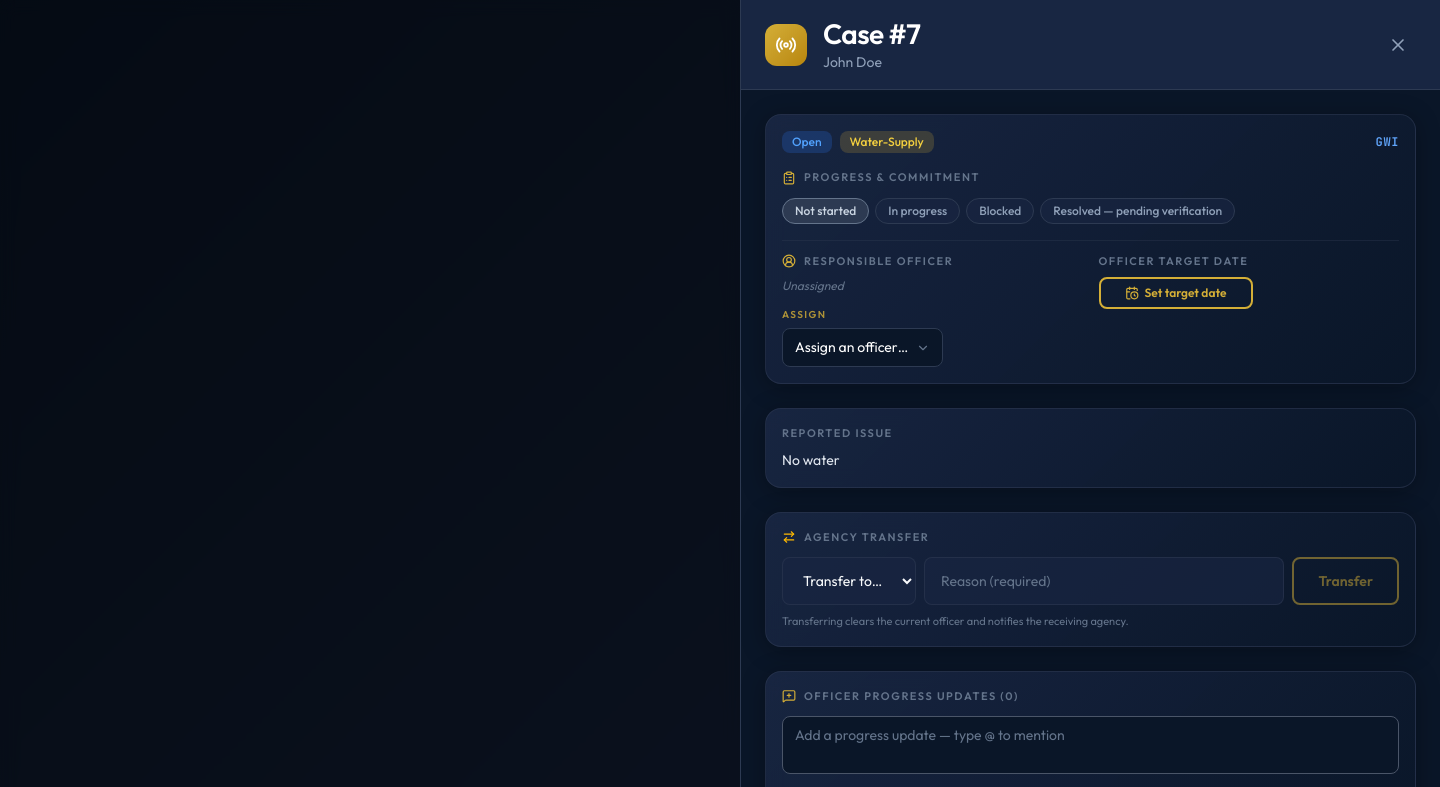
it: officer picker (MultiSelect adapter) › Escape closes the officer menu without closing the whole panel
Expected: the text "No water" is shown, x1=782 y1=451 x2=840 y2=469
Click the button "Assign an officer…" at (863, 348), box x1=782 y1=328 x2=943 y2=367
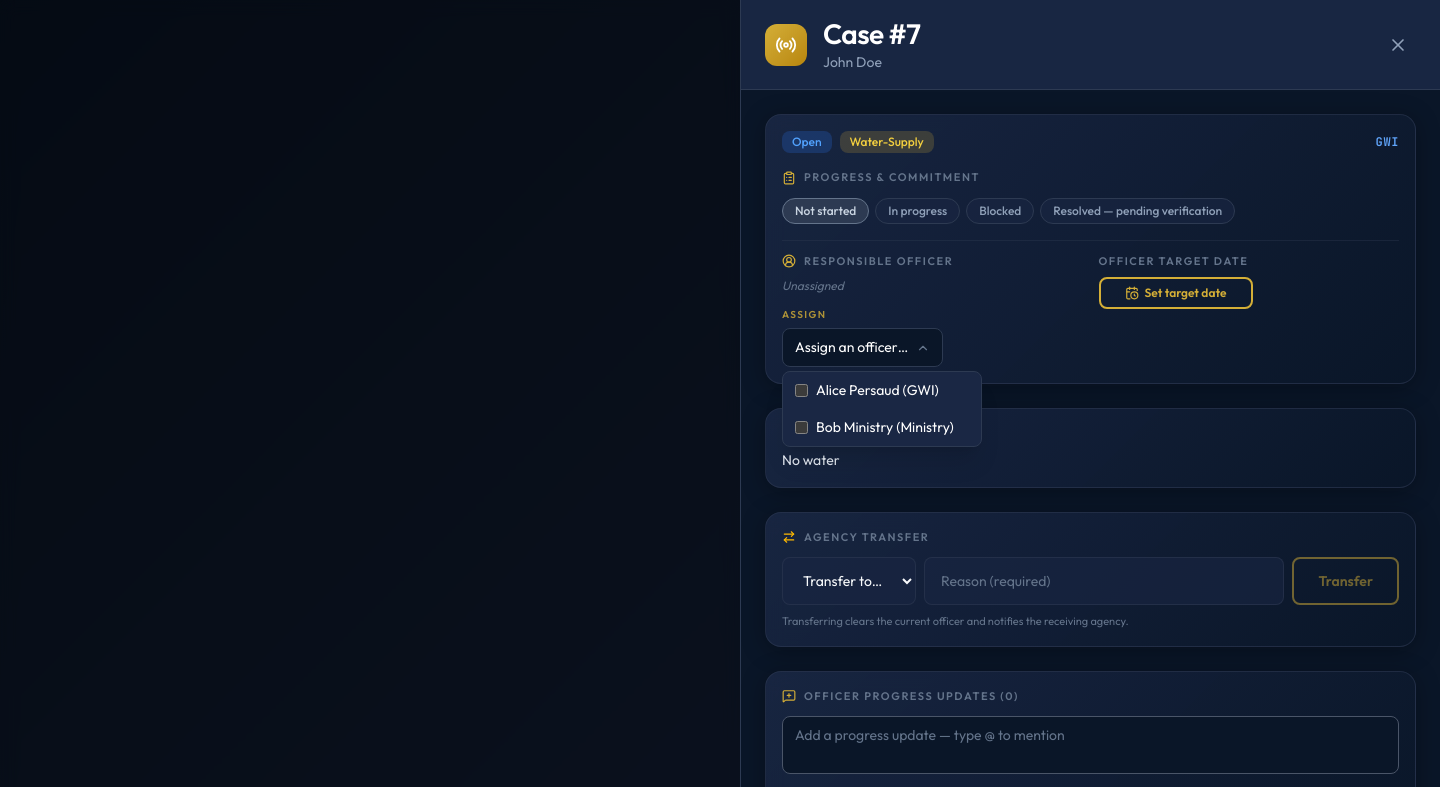
Now the checkbox labelled "Alice Persaud (GWI)" is shown, box x1=795 y1=384 x2=808 y2=397
Press Escape
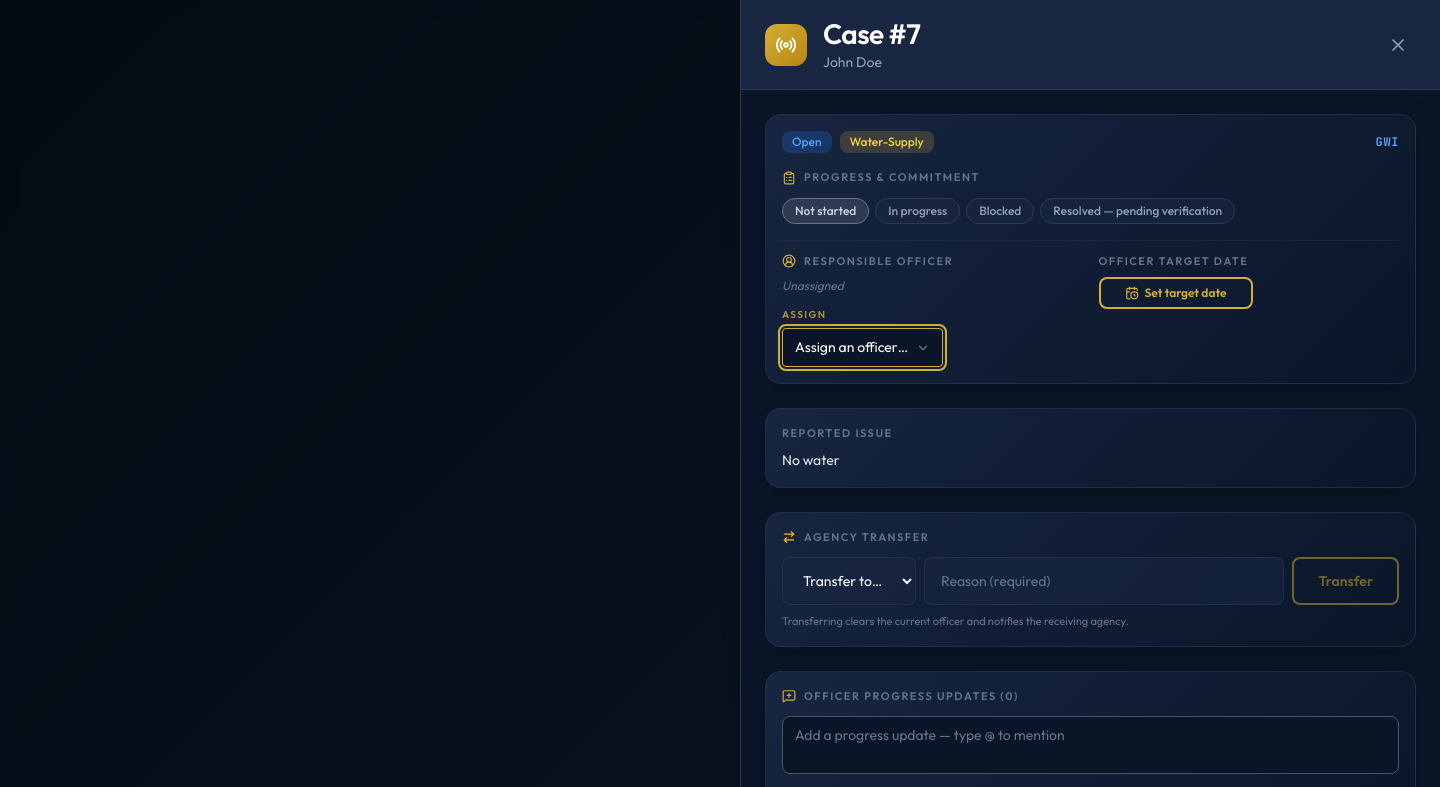
Expected: the text "No water" is shown, x1=782 y1=451 x2=840 y2=469
Now the text "Alice Persaud (GWI)" is gone
